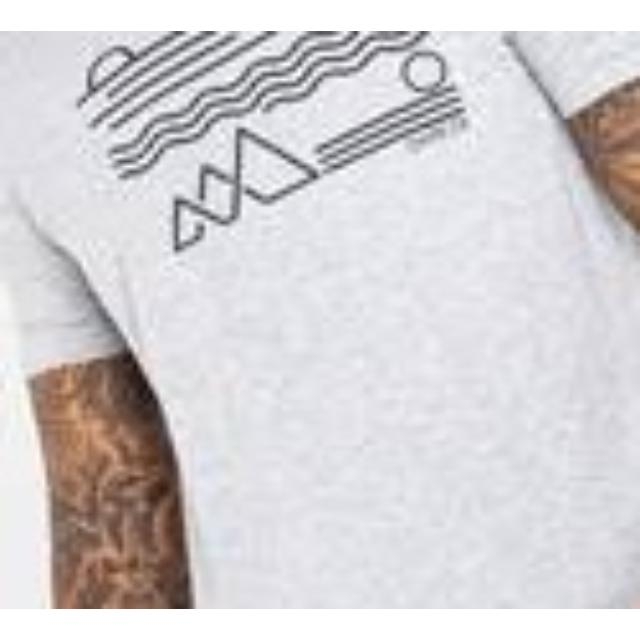polyester: (286, 31, 548, 609)
